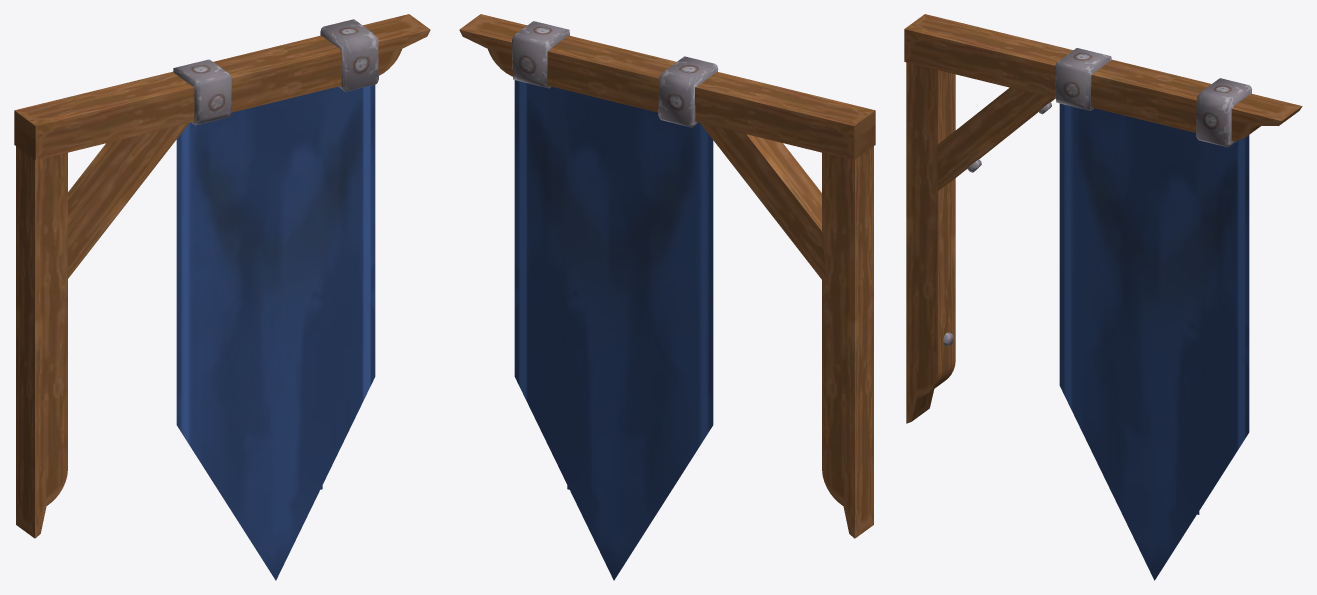
Rendered from Banner_2.glb.
3 renders of one model, left to right at view 1: azimuth 30°, elevation 25°; view 2: azimuth 150°, elevation 25°; view 3: azimuth 330°, elevation 25°, orthographic. The views are drawn at different scales.
Visible parts, largest first — view 1: Banner_2; view 2: Banner_2; view 3: Banner_2.
Boxes of the visible parts, x1,y1,x2,y2 form: Banner_2: (14, 14, 430, 580); Banner_2: (459, 14, 875, 580); Banner_2: (904, 14, 1302, 580).
Size of the model in its own units: 1.61 by 2.08 by 0.1905.
Materials: 3 (3 with a texture image).
